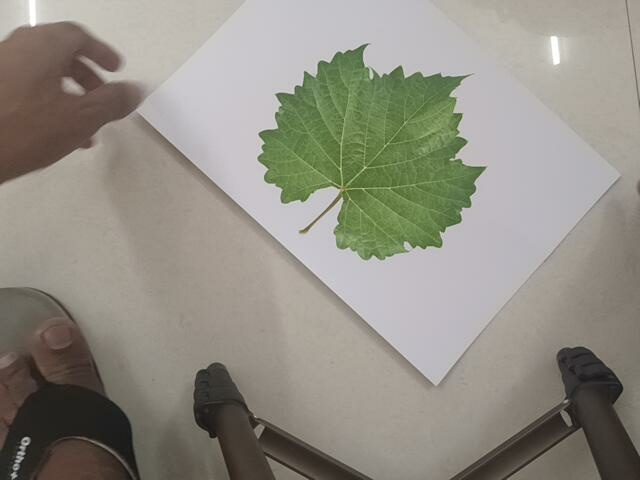Grape_Healthy: (254, 40, 494, 259)
